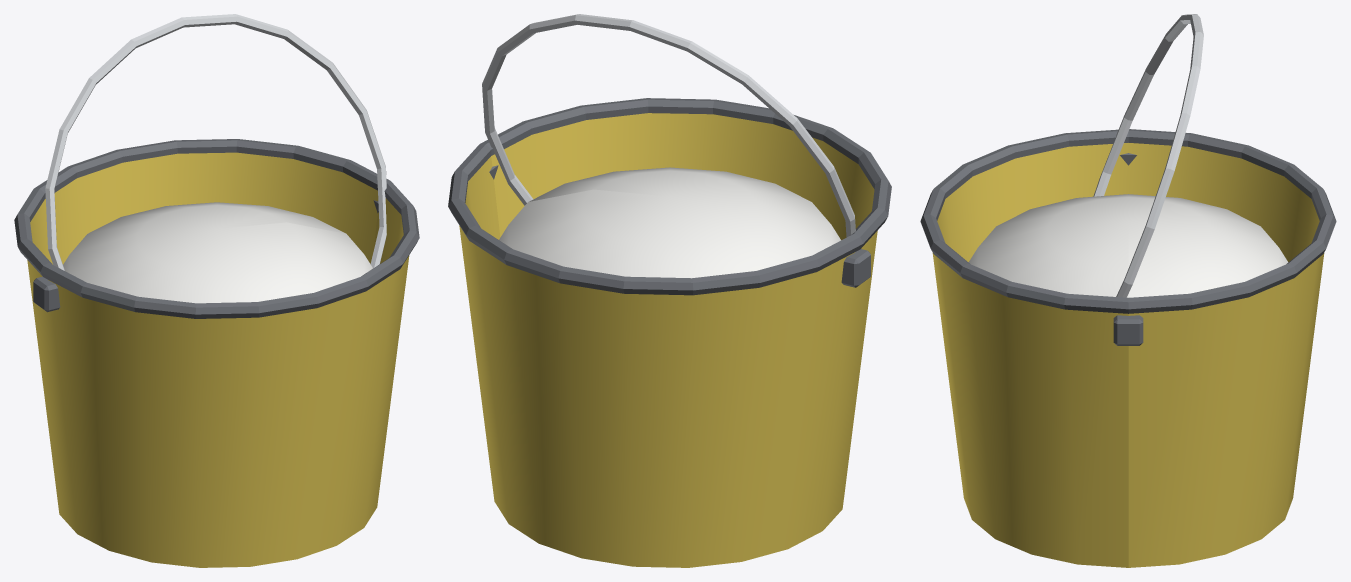
Rendered from ice-hockey-arena-and-locker-room-snow-bucket-fd690e3b__33709.glb.
3 renders of one model, left to right at view 1: azimuth 30°, elevation 25°; view 2: azimuth 150°, elevation 25°; view 3: azimuth 270°, elevation 25°, orthographic. The views are drawn at different scales.
Parts seen in each view (by area): view 1: snow-bucket; view 2: snow-bucket; view 3: snow-bucket.
Boxes of the visible parts, <box> form: snow-bucket: <box>14,14,419,567</box>; snow-bucket: <box>448,14,891,567</box>; snow-bucket: <box>920,14,1336,567</box>.
Size of the model in its own units: 0.715 by 0.876 by 0.708.
